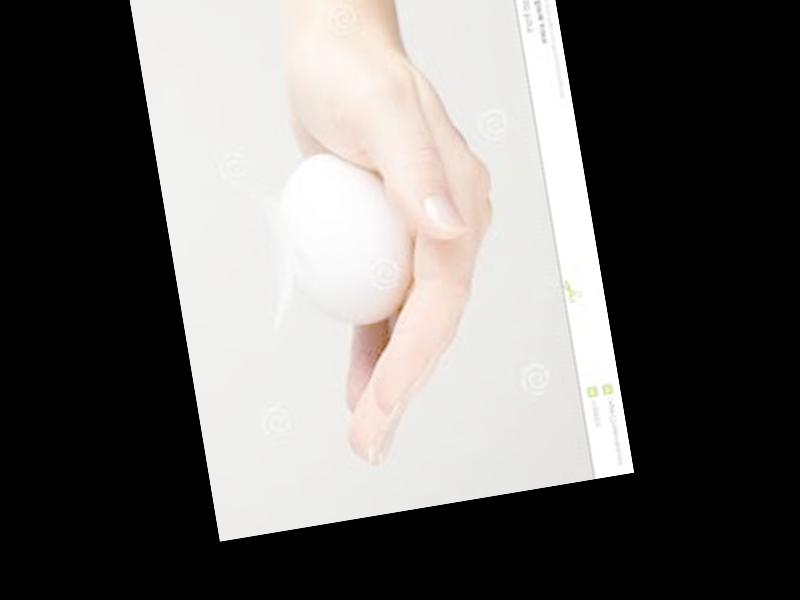Eggs: (273, 140, 423, 337)
